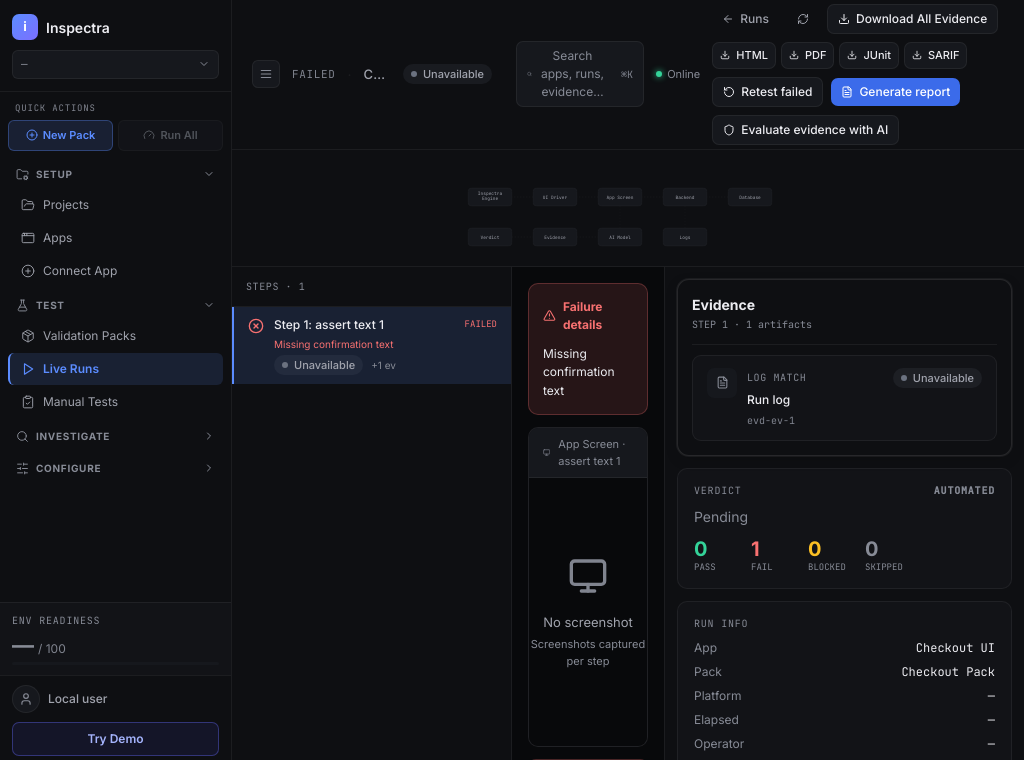
Test: AI evidence evaluation UI › renders evaluation error state
Click the button "Evaluate evidence with AI" at (806, 130), box x1=712 y1=114 x2=899 y2=144
(page scrolled)
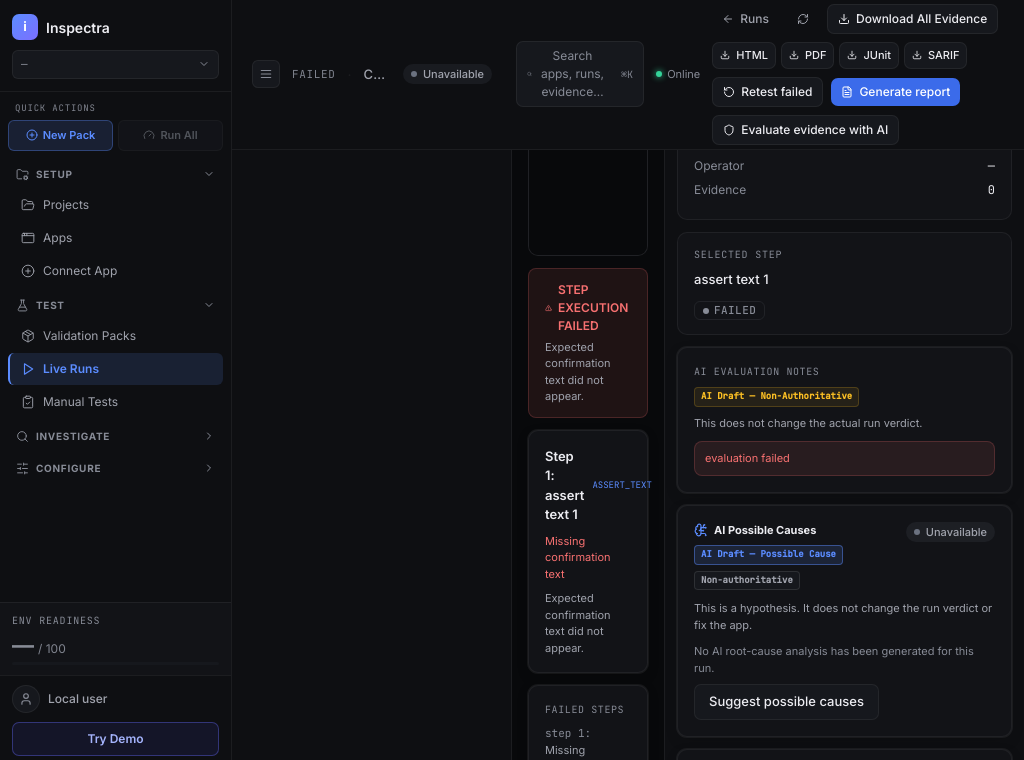
Expected: the text "evaluation failed" is shown, x1=694 y1=441 x2=995 y2=476
